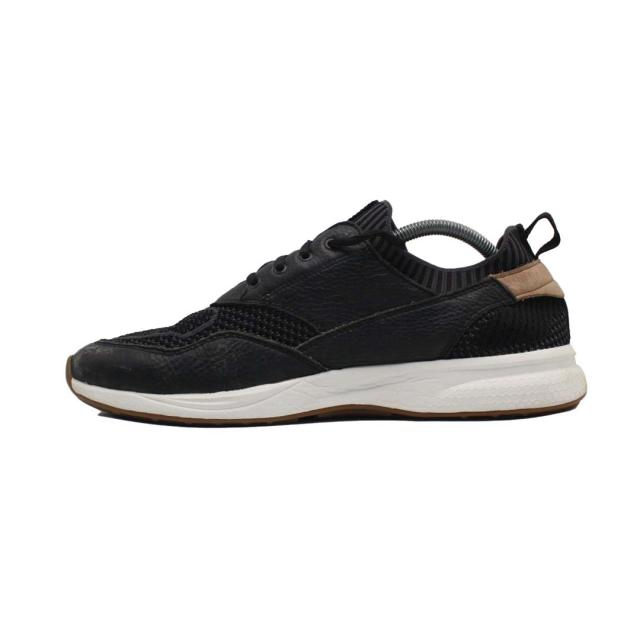heel: (497, 215, 570, 352)
midsole: (69, 347, 589, 419)
uppersole: (72, 199, 529, 392)
